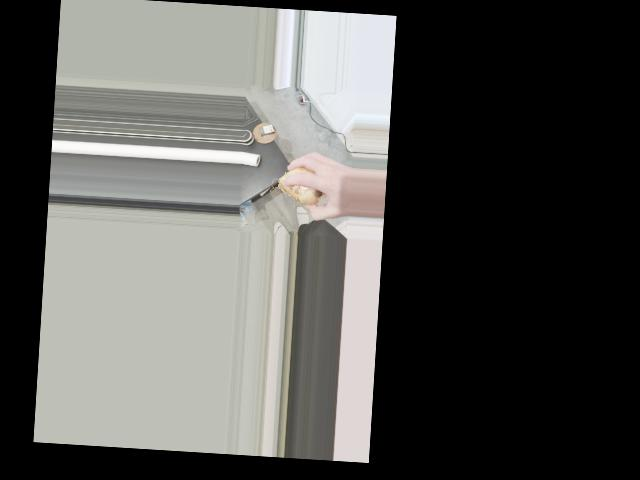onion: (278, 167, 323, 206)
